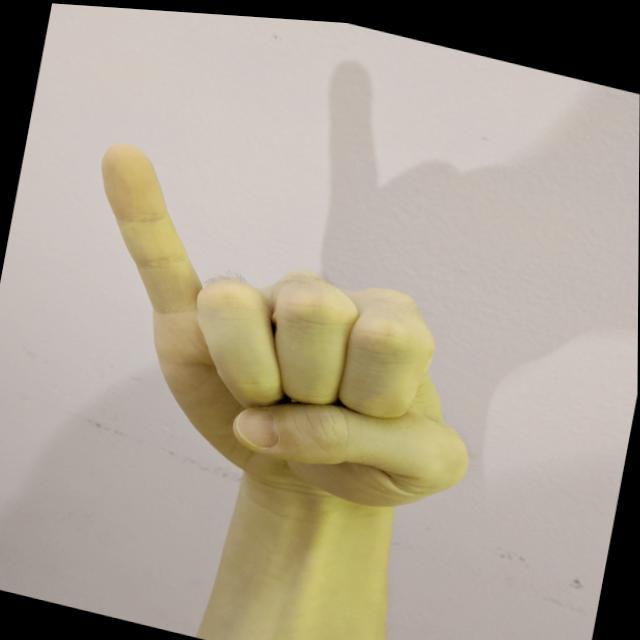I: (42, 126, 523, 530)
